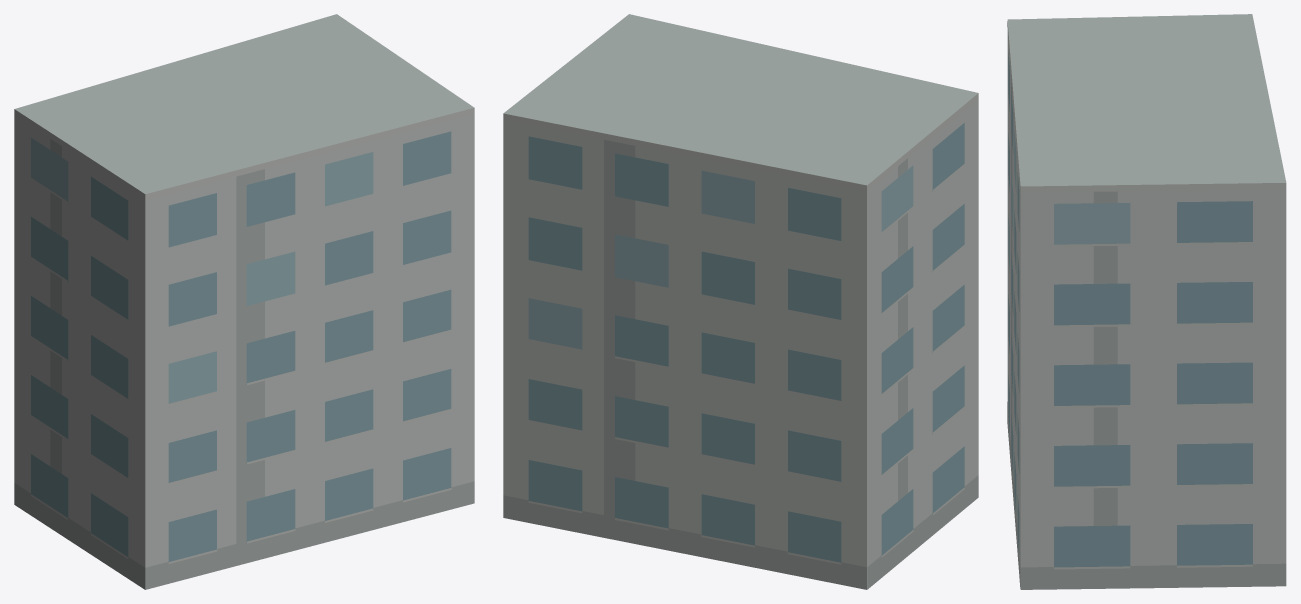
The model's file is survey-upis-32800932.glb.
The picture shows the model from 3 angles, left to right: view 1: azimuth 30°, elevation 25°; view 2: azimuth 150°, elevation 25°; view 3: azimuth 270°, elevation 25°; orthographic projection. The views are drawn at different scales.
Parts seen in each view (by area): view 1: survey-upis-32800932.tmp; view 2: survey-upis-32800932.tmp; view 3: survey-upis-32800932.tmp.
Part boxes in pixels (x1=…): survey-upis-32800932.tmp: x1=14, y1=14, x2=474, y2=589; survey-upis-32800932.tmp: x1=503, y1=14, x2=978, y2=589; survey-upis-32800932.tmp: x1=1007, y1=14, x2=1286, y2=589.
Bounding box in the file's own units: 14.17 × 15.45 × 9.69.
